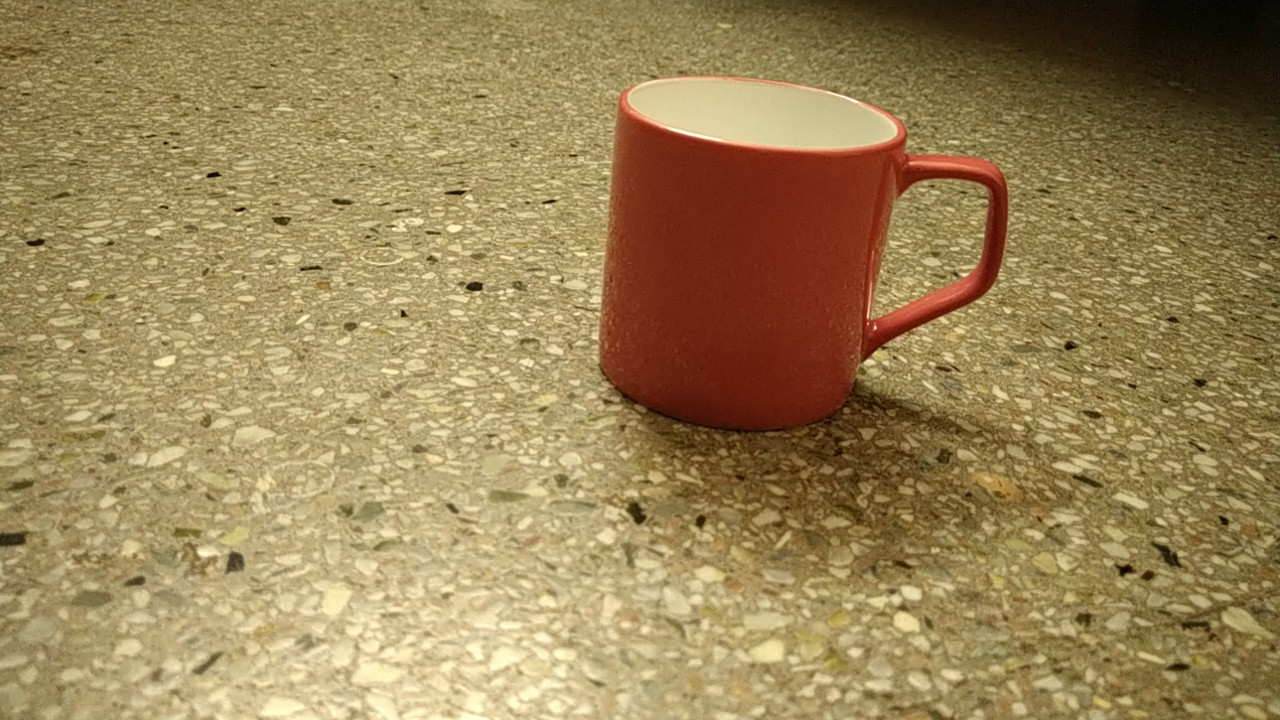cup: (568, 62, 1022, 445)
